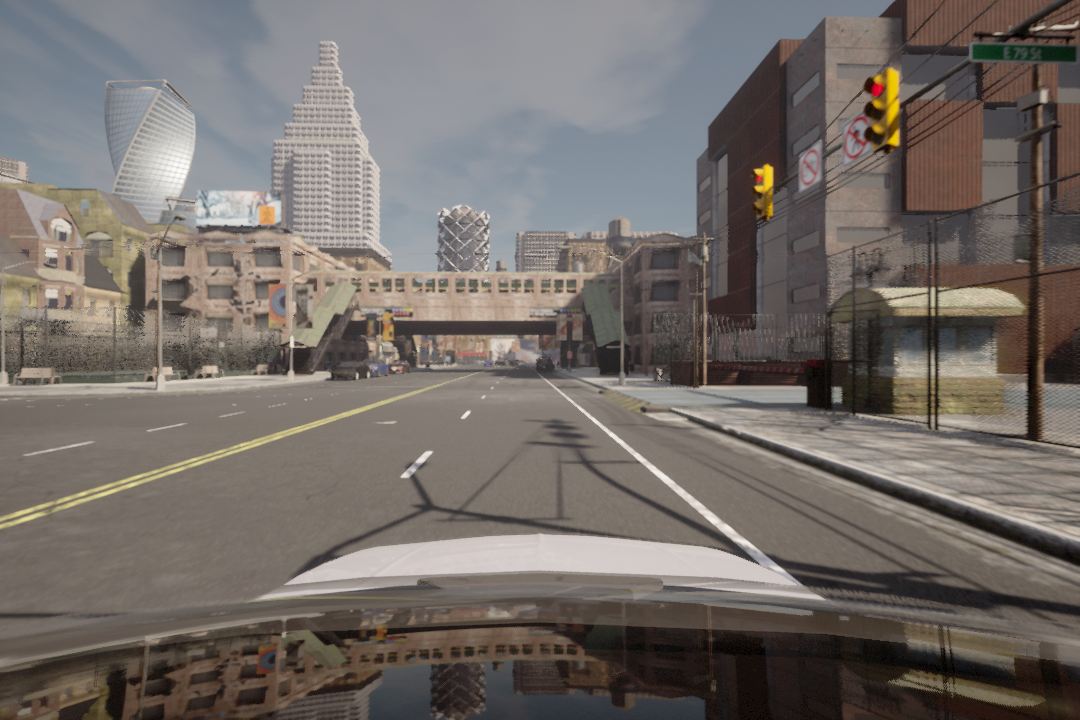TrafficLight: (863, 70, 903, 153), (750, 166, 777, 223)
TrafficSign: (791, 144, 830, 190), (842, 118, 869, 157)
